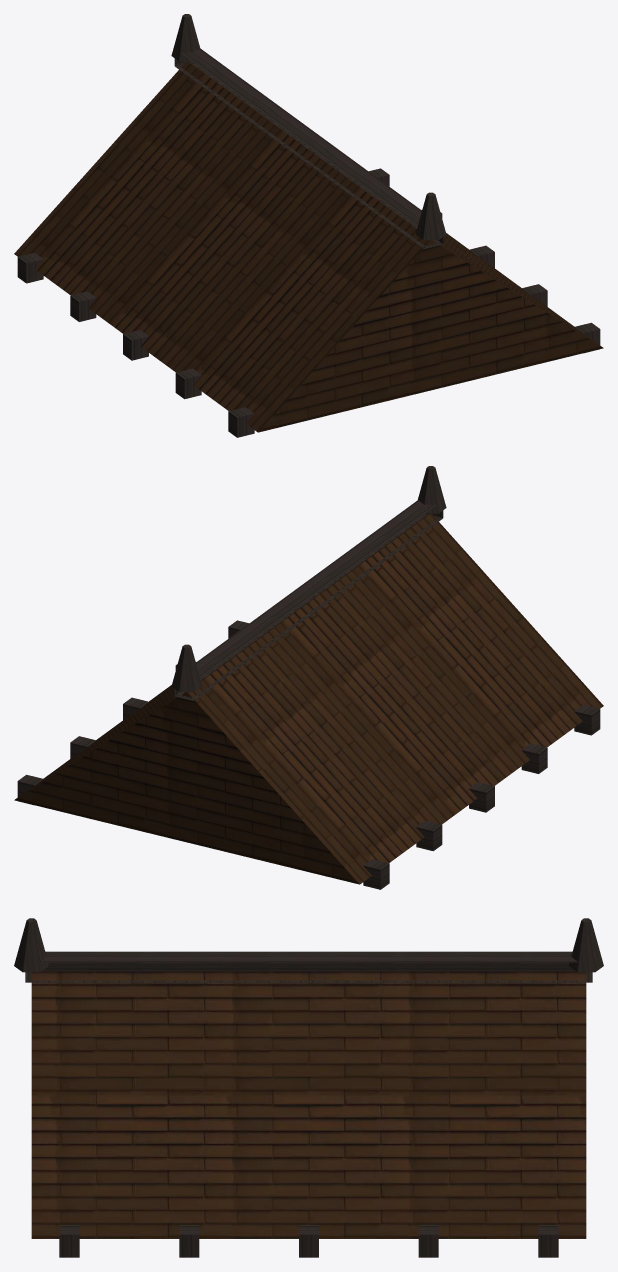
File: temple_roof_01.glb
3 renders of one model, top to bottom at view 1: azimuth 30°, elevation 25°; view 2: azimuth 150°, elevation 25°; view 3: azimuth 270°, elevation 25°, orthographic. The views are drawn at different scales.
Parts seen in each view (by area): view 1: temple_roof_01; view 2: temple_roof_01; view 3: temple_roof_01.
Part boxes in pixels (<box>): temple_roof_01: <box>14,14,603,437</box>; temple_roof_01: <box>14,466,603,889</box>; temple_roof_01: <box>14,918,603,1257</box>.
Bounding box in the file's own units: 3.78 × 2.07 × 4.68.
Materials: 2 (2 with a texture image).
